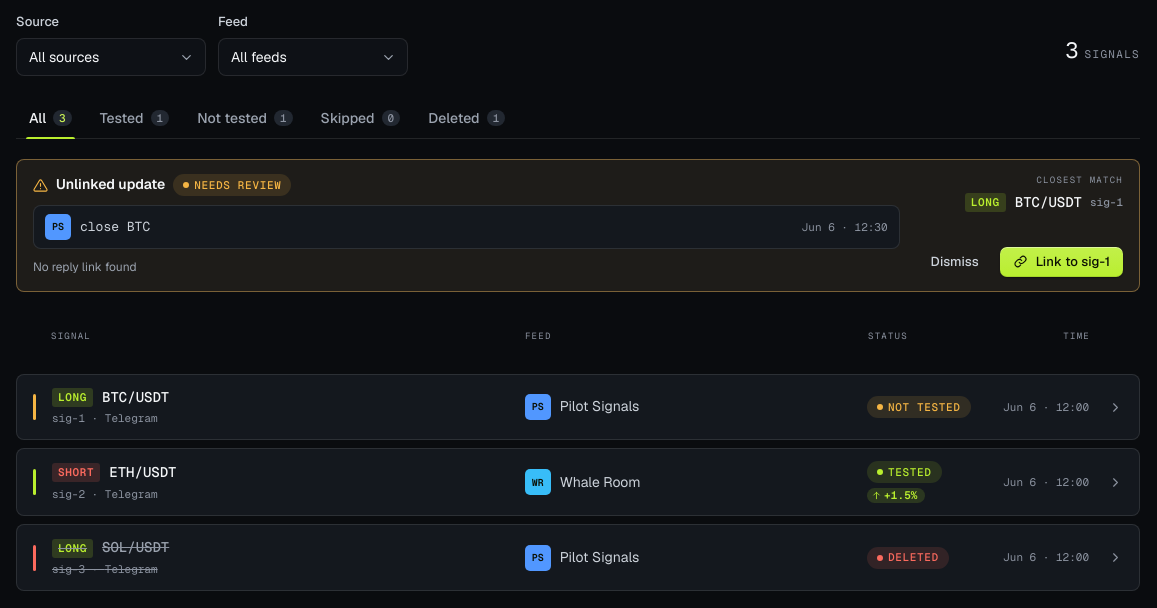
SignalsView › dismisses an orphan update locally
Expected: the text "Unlinked update" is shown, top-left (56, 174), bottom-right (165, 196)
What coordinates should you click on to do the following:
click the button "Dismiss"
I would click on:
 (955, 262)
Its box is top-left (918, 247), bottom-right (992, 277).
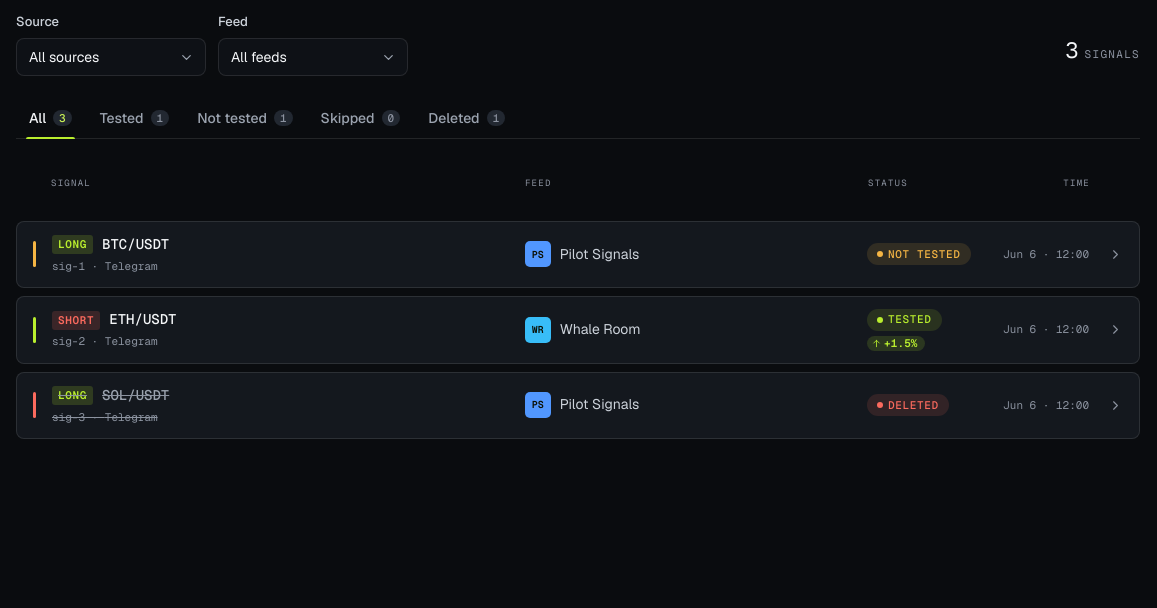
Now the text "Unlinked update" is gone
